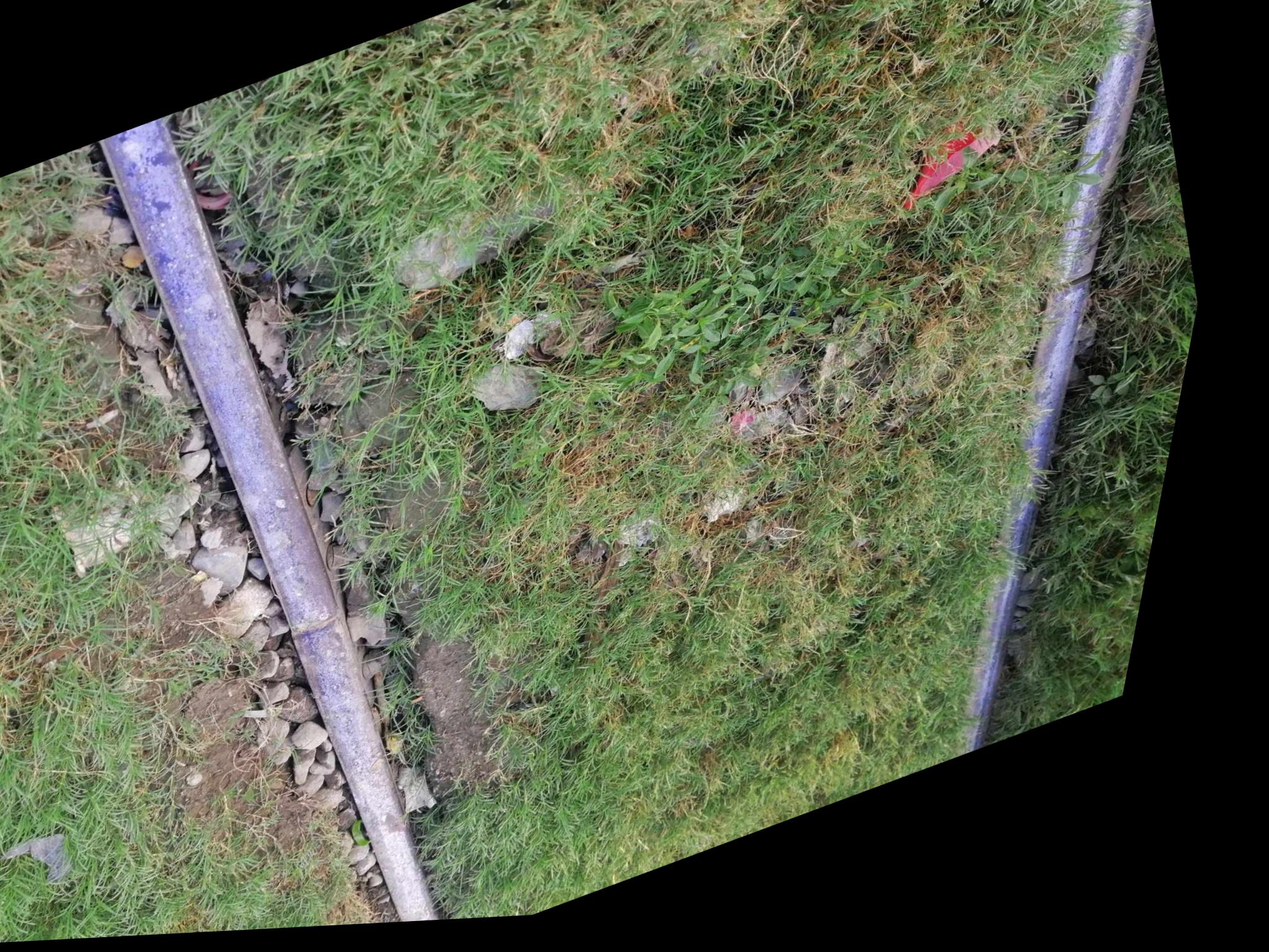person: (1019, 241, 1147, 351)
